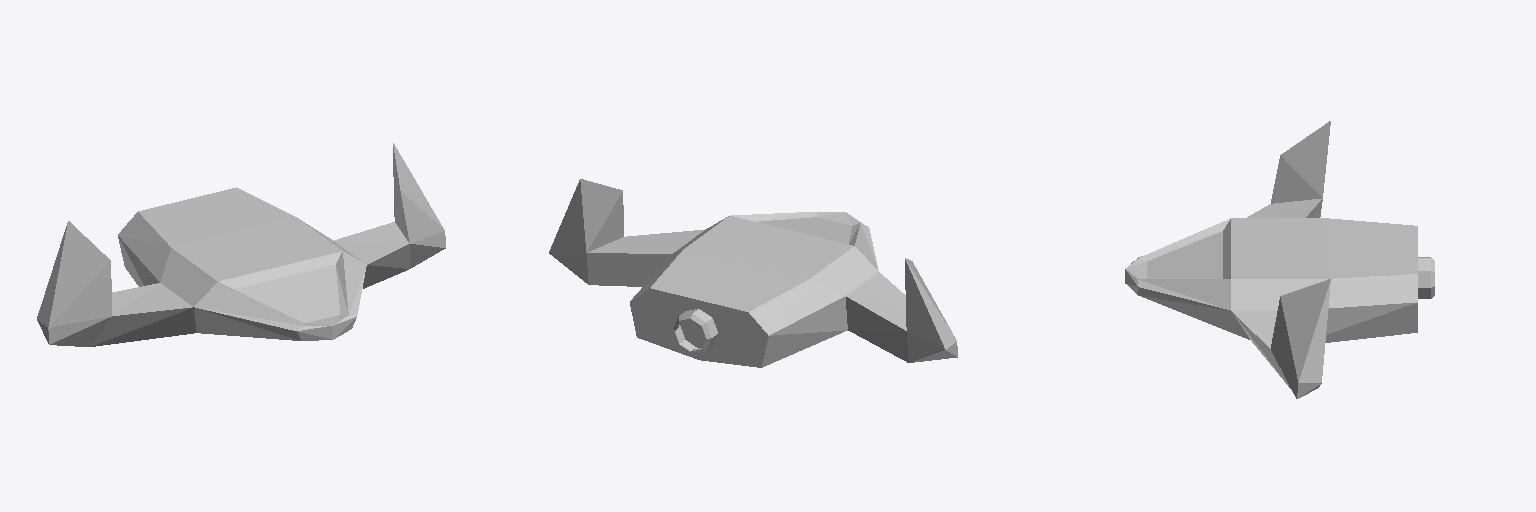
File: ship_tmp.obj
3 views of the same model, side by side, from view 1: azimuth 30°, elevation 25°; view 2: azimuth 150°, elevation 25°; view 3: azimuth 270°, elevation 25° (orthographic).
Visible parts, largest first — view 1: Cube.001; view 2: Cube.001; view 3: Cube.001.
Part boxes in pixels (bbox=[...]): Cube.001: bbox=[37, 143, 445, 346]; Cube.001: bbox=[549, 179, 957, 367]; Cube.001: bbox=[1125, 121, 1434, 398].
Size of the model in its own units: 3.28 by 0.8935 by 2.21.